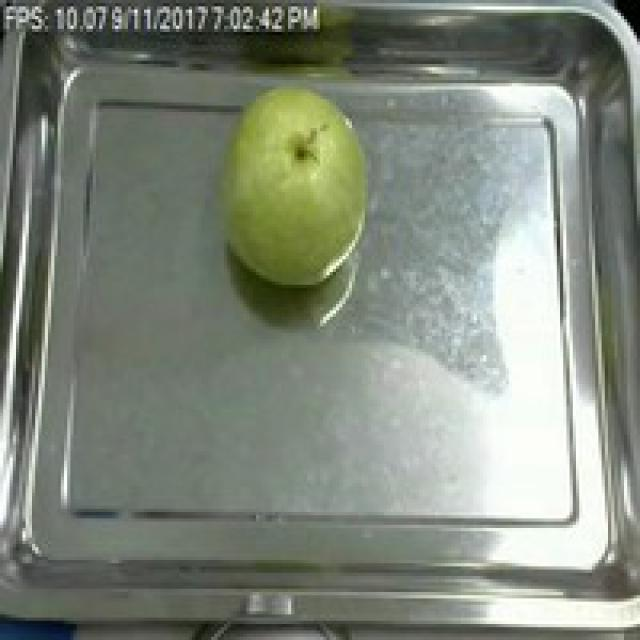Fruit: (195, 73, 381, 294)
